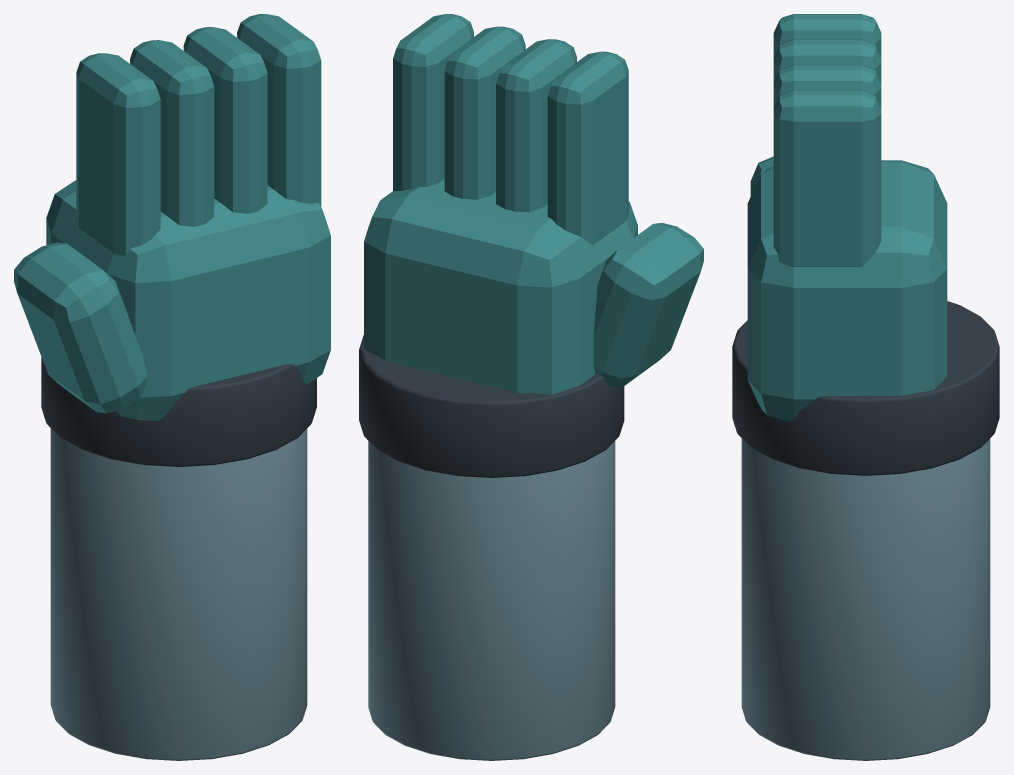
Rendered from glove.glb.
The picture shows the model from 3 angles, left to right: view 1: azimuth 30°, elevation 25°; view 2: azimuth 150°, elevation 25°; view 3: azimuth 270°, elevation 25°; orthographic projection. The views are drawn at different scales.
Visible parts, largest first — view 1: Sleeve, Palm, Cuff, Finger, Thumb, Finger.003, Finger.001, Finger.002; view 2: Sleeve, Palm, Cuff, Finger, Thumb, Finger.003, Finger.002, Finger.001; view 3: Sleeve, Palm, Cuff, Finger.003, Finger.002, Finger, Finger.001.
Part boxes in pixels (x1=…): Sleeve: x1=50, y1=428, x2=307, y2=760; Palm: x1=46, y1=180, x2=330, y2=420; Cuff: x1=41, y1=357, x2=316, y2=466; Finger: x1=76, y1=53, x2=160, y2=255; Thumb: x1=14, y1=242, x2=147, y2=413; Finger.003: x1=237, y1=14, x2=321, y2=206; Finger.001: x1=130, y1=40, x2=214, y2=226; Finger.002: x1=183, y1=27, x2=267, y2=213; Sleeve: x1=368, y1=441, x2=615, y2=760; Palm: x1=364, y1=179, x2=637, y2=394; Cuff: x1=359, y1=335, x2=624, y2=477; Finger: x1=547, y1=51, x2=628, y2=244; Thumb: x1=593, y1=223, x2=703, y2=387; Finger.003: x1=393, y1=14, x2=473, y2=190; Finger.002: x1=444, y1=26, x2=525, y2=199; Finger.001: x1=496, y1=39, x2=576, y2=212; Sleeve: x1=741, y1=438, x2=990, y2=760; Palm: x1=747, y1=160, x2=947, y2=421; Cuff: x1=732, y1=301, x2=999, y2=475; Finger.003: x1=773, y1=90, x2=881, y2=266; Finger.002: x1=773, y1=64, x2=881, y2=108; Finger: x1=773, y1=14, x2=881, y2=57; Finger.001: x1=773, y1=39, x2=881, y2=82.
Bounding box in the file's own units: 0.2119 × 0.47 × 0.174.
